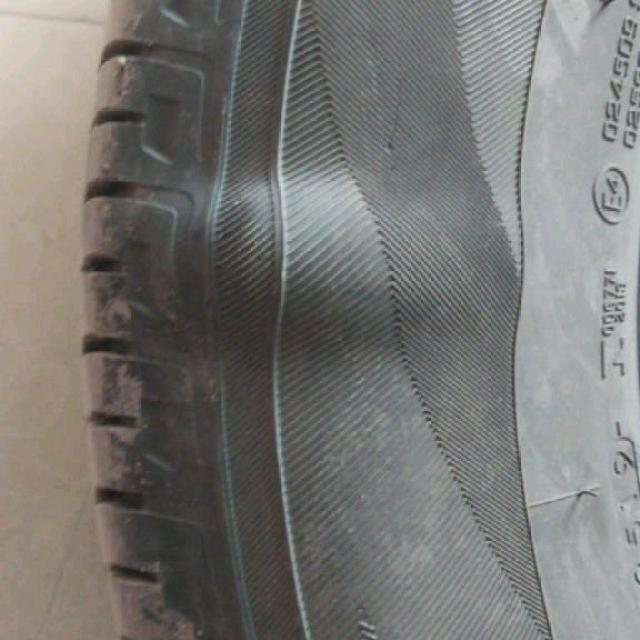Bulge: (124, 170, 467, 356)
